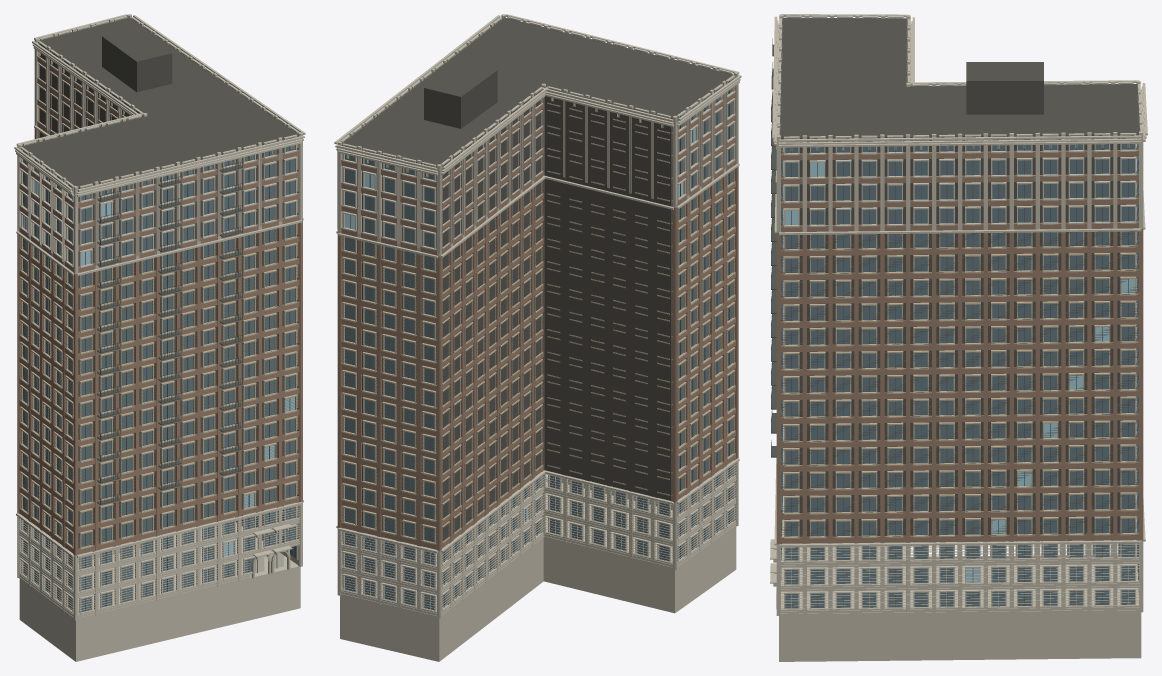
The model's file is bell_building.glb.
The picture shows the model from 3 angles, left to right: view 1: azimuth 30°, elevation 25°; view 2: azimuth 150°, elevation 25°; view 3: azimuth 270°, elevation 25°; orthographic projection. The views are drawn at different scales.
Parts seen in each view (by area): view 1: Bedford limestone base and crown, Dark service roof and mortar, Warm brown brick shaft, Recessed blue grey panes, Pale terra cotta surrounds, Physical iron balcony rails, Dark bronze window sashes, Night occupied Bell panes; view 2: Dark service roof and mortar, Bedford limestone base and crown, Warm brown brick shaft, Pale terra cotta surrounds, Recessed blue grey panes, Dark bronze window sashes; view 3: Dark service roof and mortar, Bedford limestone base and crown, Recessed blue grey panes, Warm brown brick shaft, Pale terra cotta surrounds, Dark bronze window sashes, Physical iron balcony rails, Night occupied Bell panes.
Boxes of the visible parts, left/top/right/bottom form: Bedford limestone base and crown: left=14, top=14, right=305, bottom=661; Dark service roof and mortar: left=20, top=17, right=298, bottom=548; Warm brown brick shaft: left=17, top=55, right=302, bottom=555; Recessed blue grey panes: left=23, top=18, right=296, bottom=612; Pale terra cotta surrounds: left=20, top=131, right=298, bottom=549; Physical iron balcony rails: left=97, top=161, right=242, bottom=504; Dark bronze window sashes: left=25, top=19, right=293, bottom=611; Night occupied Bell panes: left=23, top=181, right=294, bottom=556; Dark service roof and mortar: left=341, top=17, right=735, bottom=543; Bedford limestone base and crown: left=334, top=14, right=741, bottom=661; Warm brown brick shaft: left=337, top=91, right=738, bottom=550; Pale terra cotta surrounds: left=342, top=169, right=735, bottom=544; Recessed blue grey panes: left=344, top=18, right=732, bottom=609; Dark bronze window sashes: left=346, top=21, right=729, bottom=609; Dark service roof and mortar: left=779, top=17, right=1140, bottom=537; Bedford limestone base and crown: left=770, top=14, right=1147, bottom=661; Recessed blue grey panes: left=780, top=18, right=1139, bottom=608; Warm brown brick shaft: left=776, top=142, right=1143, bottom=544; Pale terra cotta surrounds: left=784, top=196, right=1138, bottom=538; Dark bronze window sashes: left=779, top=17, right=1140, bottom=607; Physical iron balcony rails: left=771, top=38, right=776, bottom=457; Night occupied Bell panes: left=781, top=144, right=1138, bottom=582.
Size of the model in its own units: 46.36 by 95.4 by 58.58.
